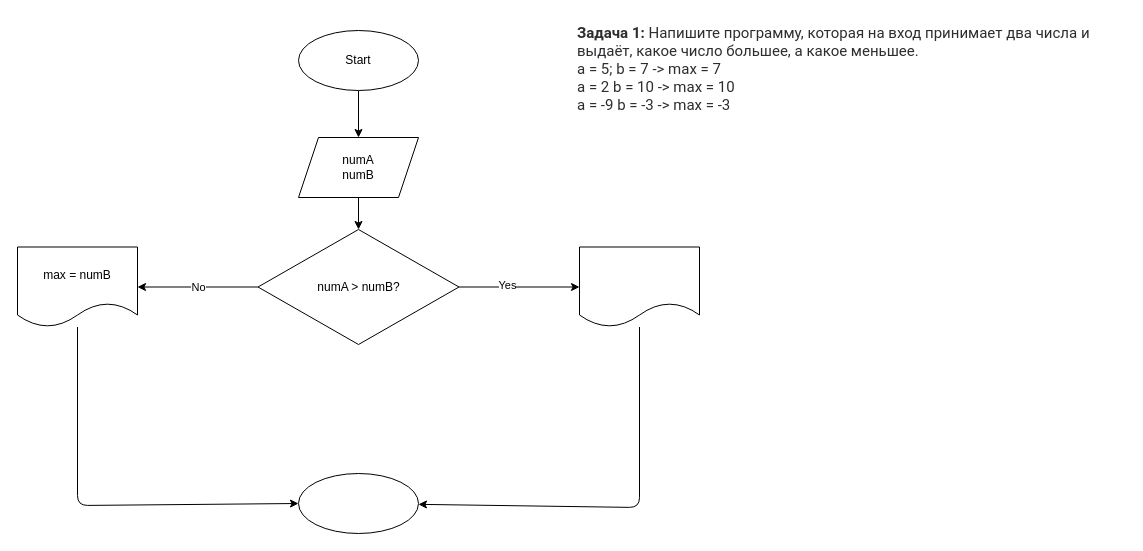
Some shapes in this 1143 by 551 pixel diagram are drawn without their labels. Each missing label, with the centre of its shape:
End: point (358, 503)
max = numA: point (639, 286)
